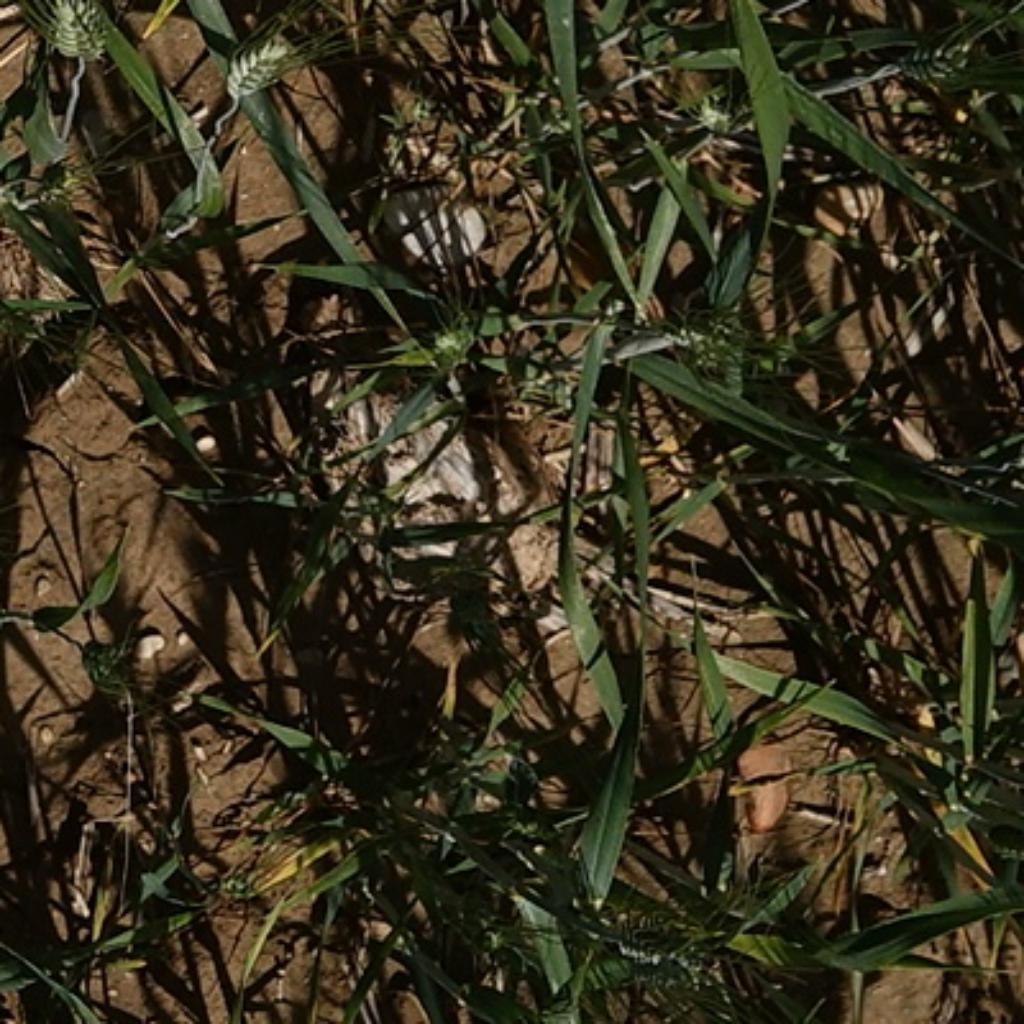0-0: (570, 872, 734, 1013), (427, 880, 558, 1006), (657, 279, 783, 378), (0, 135, 107, 235), (57, 615, 164, 712), (883, 15, 1003, 92), (0, 222, 64, 350), (215, 20, 304, 94), (40, 0, 117, 61), (419, 307, 483, 368), (680, 89, 744, 146), (0, 486, 5, 568), (839, 0, 949, 2)
